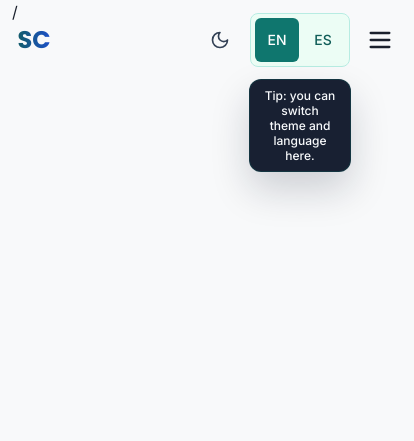
Scenario: Navbar route-aware shell › keeps the switch inside the mobile menu block
Click the button named "Open menu". click: click(380, 40)
box: top-left (358, 18), bottom-right (402, 62)
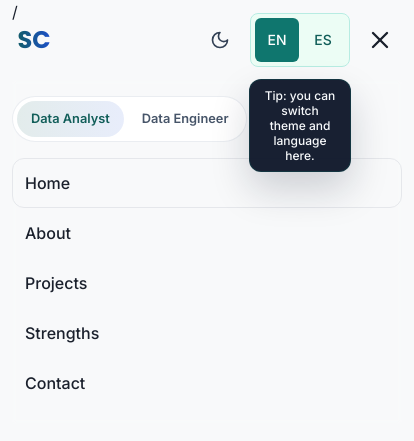
expect the element with id "mobile-navigation" is shown: met
expect the number of buttons "Data Analyst" is 1: met, box top-left (17, 101), bottom-right (124, 137)
expect the number of buttons "Data Engineer" is 1: met, box top-left (128, 101), bottom-right (242, 137)
